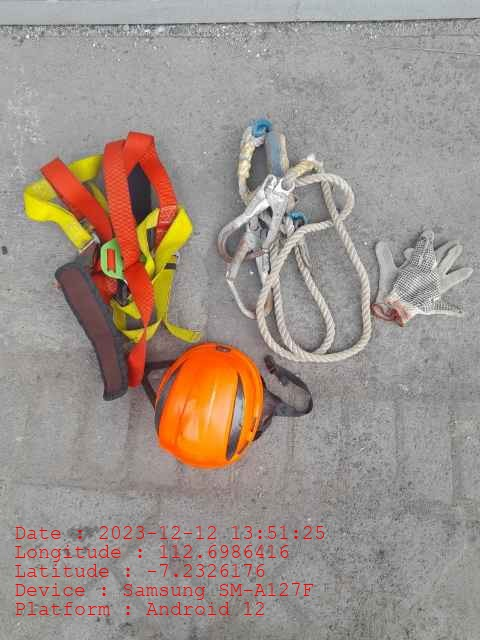HELM: (154, 344, 264, 469)
SARUNG_TANGAN: (385, 230, 472, 329)
TAMBANG_SLING: (217, 118, 370, 365)
